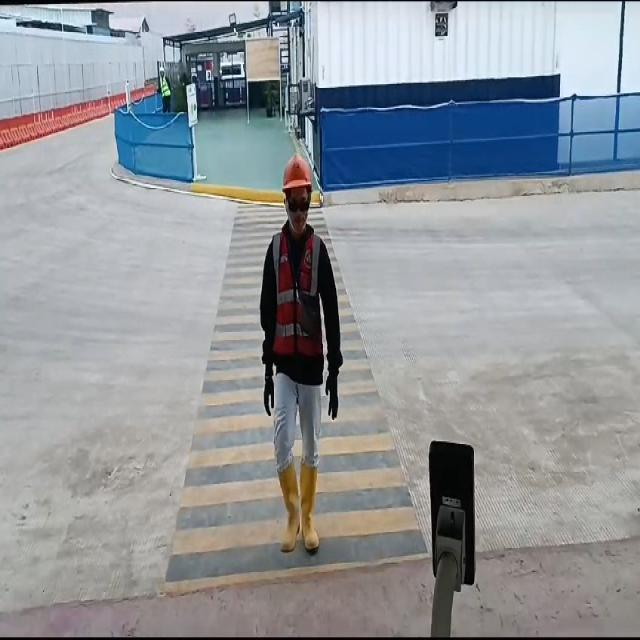gloves: (325, 376, 343, 422), (260, 368, 276, 416)
goggles: (284, 198, 314, 215)
helmet: (282, 154, 312, 194), (159, 63, 166, 75)
safety_vest: (270, 229, 322, 359), (160, 80, 172, 99)
